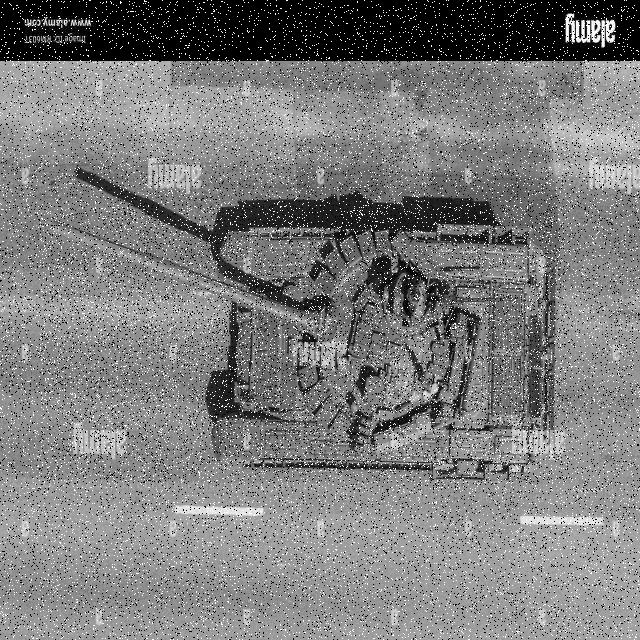MIL_MBT: (40, 205, 566, 483)
